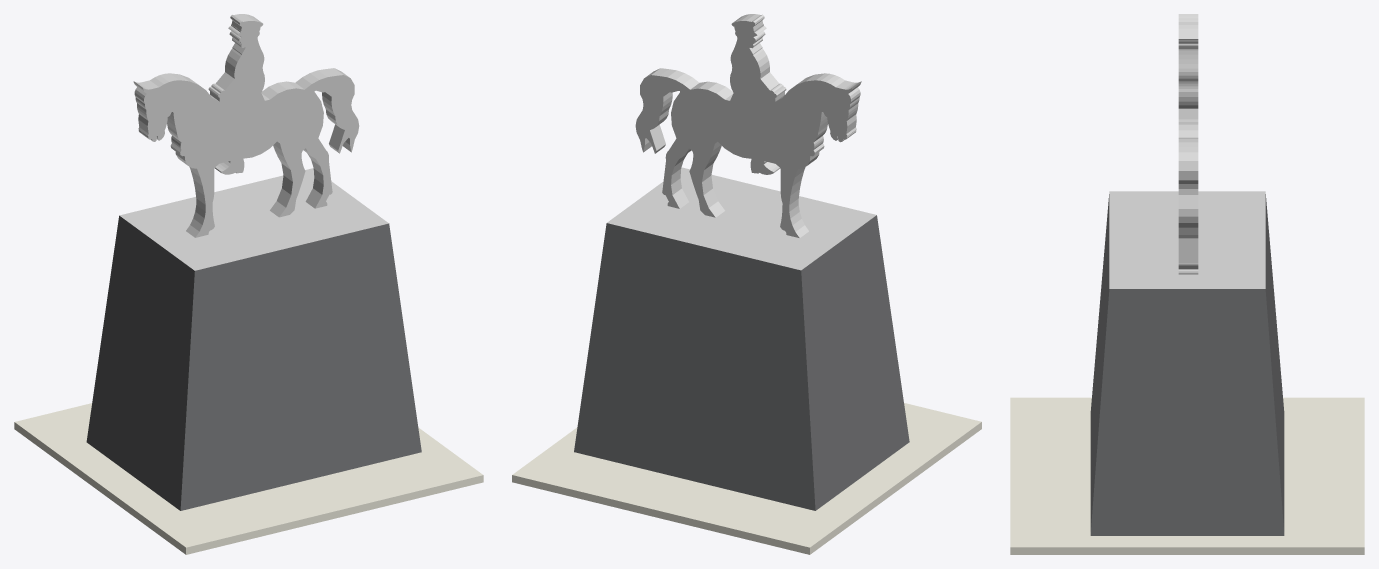
The model's file is ulus-heykel.dae.
3 renders of one model, left to right at view 1: azimuth 30°, elevation 25°; view 2: azimuth 150°, elevation 25°; view 3: azimuth 270°, elevation 25°, orthographic. The views are drawn at different scales.
Visible parts, largest first — view 1: SketchUp (×6), group_0; view 2: SketchUp (×6), group_0; view 3: SketchUp (×3), group_0.
Part boxes in pixels (x1,y1,x2,y2): SketchUp (×6): (86, 14, 421, 510); group_0: (14, 403, 483, 554); SketchUp (×6): (574, 14, 909, 510); group_0: (512, 403, 981, 554); SketchUp (×3): (1090, 20, 1284, 535); group_0: (1010, 397, 1364, 554).
Size of the model in its own units: 134 by 134 by 189.
Materials: 4 (4 with a texture image).
